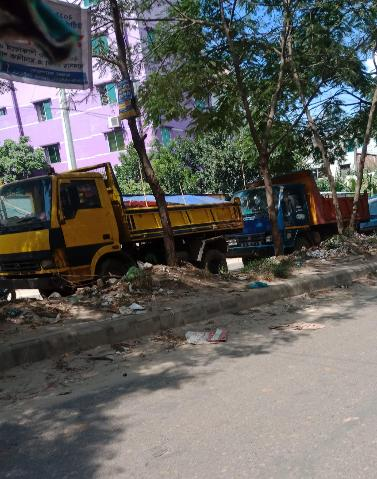truck: (1, 158, 238, 299), (235, 170, 370, 260)
